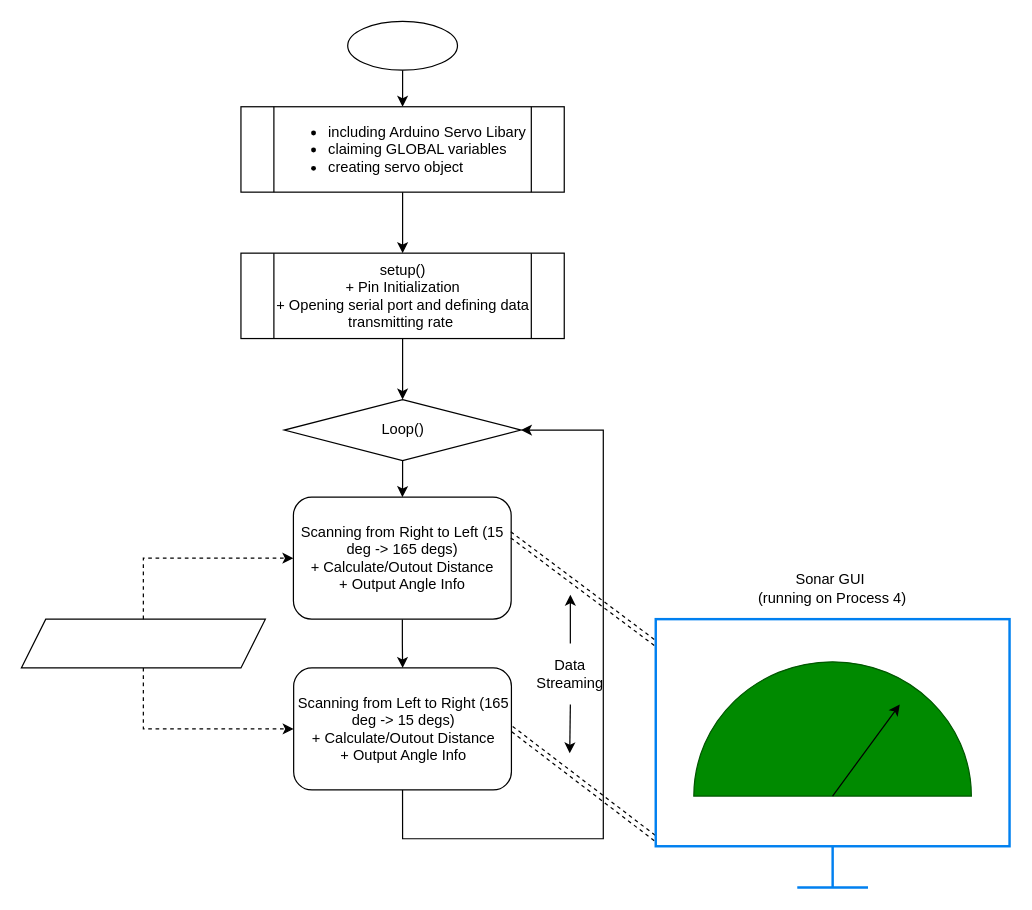
Image size: 1032x910. Some labels were removed from this diagram. Each missing label, with the centre of its shape:
"+ int calculateDistrance() {... }" belongs at point (142, 643).
"Start" belongs at point (402, 45).
